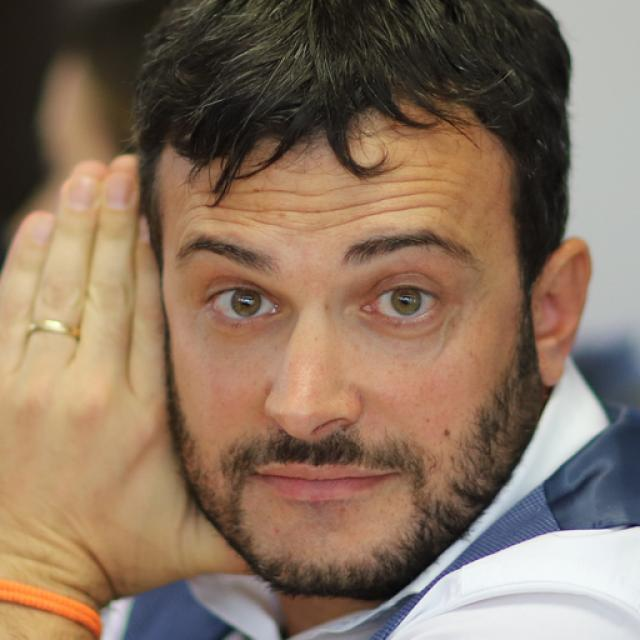Wrinkle: (186, 182, 461, 223), (203, 202, 451, 241), (190, 168, 459, 202)
